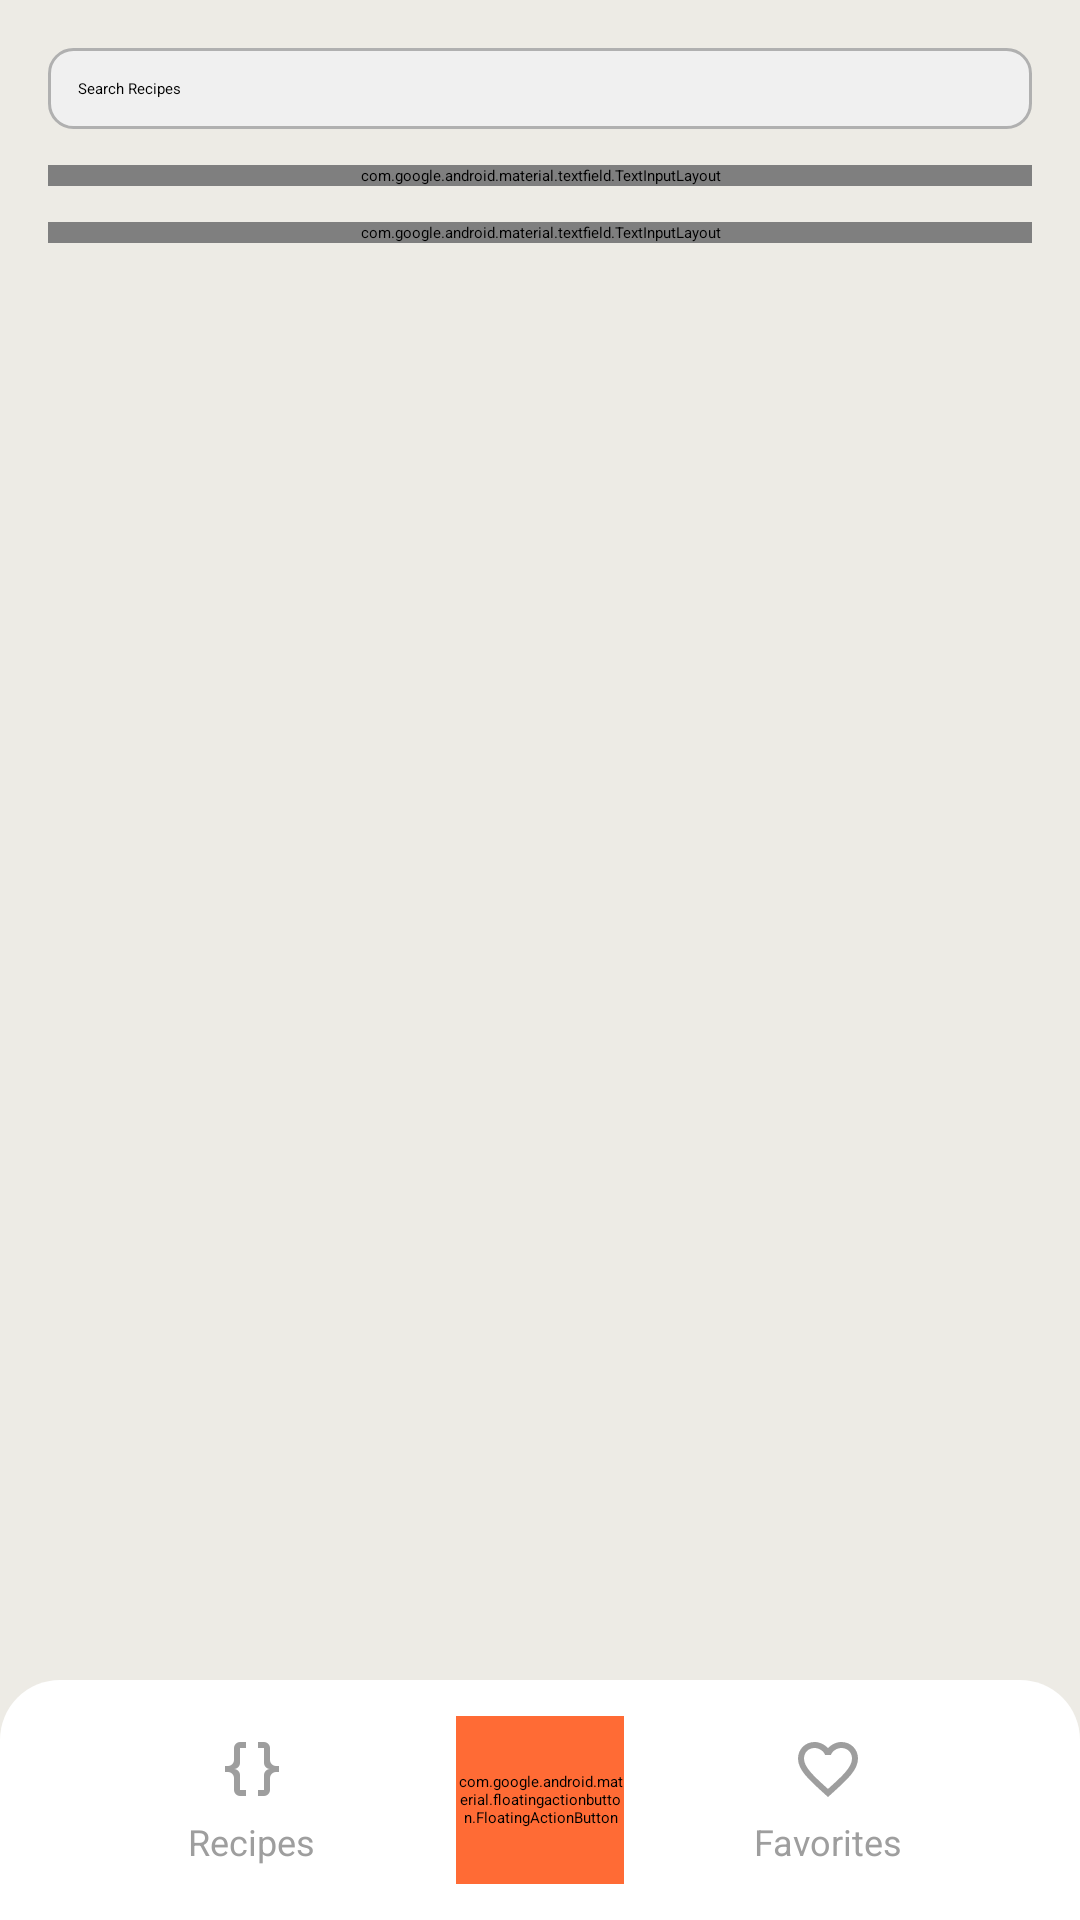

Where icons sit on this 1080px x 1920px app screen, as BBox(x1, y1, x2, y2):
heart: BBox(798, 1742, 858, 1797)
